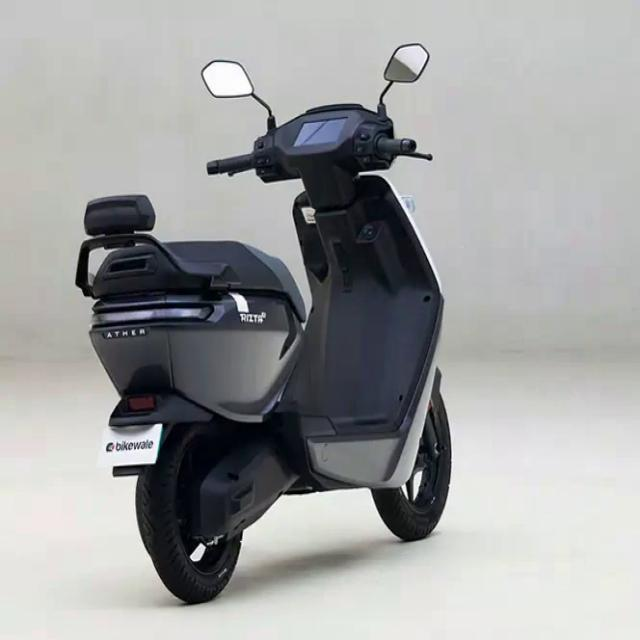objects: (58, 22, 496, 582)
